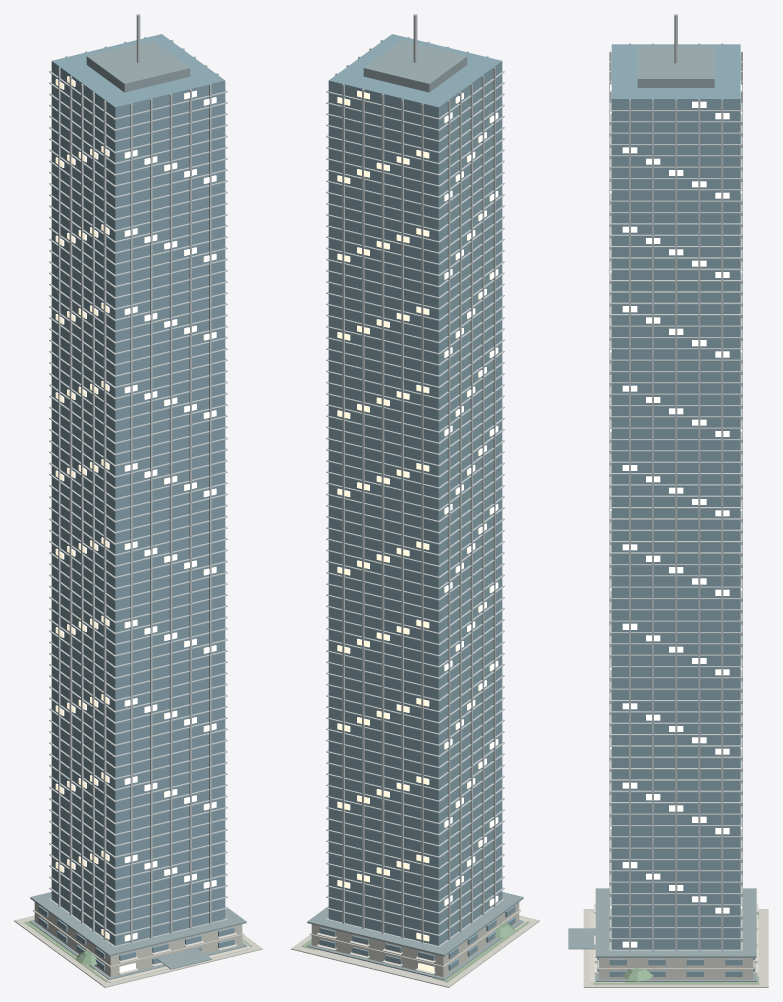
File: remaster_skyscraper_9.glb
The picture shows the model from 3 angles, left to right: view 1: azimuth 30°, elevation 25°; view 2: azimuth 150°, elevation 25°; view 3: azimuth 270°, elevation 25°; orthographic projection.
Parts seen in each view (by area): view 1: remaster_skyscraper_9 glass, remaster_skyscraper_9 metal, remaster_skyscraper_9 warm, remaster_skyscraper_9 roof, remaster_skyscraper_9 stone; view 2: remaster_skyscraper_9 glass, remaster_skyscraper_9 metal, remaster_skyscraper_9 warm, remaster_skyscraper_9 roof, remaster_skyscraper_9 stone; view 3: remaster_skyscraper_9 glass, remaster_skyscraper_9 metal, remaster_skyscraper_9 roof, remaster_skyscraper_9 warm, remaster_skyscraper_9 stone, remaster_skyscraper_9 green.
Boxes of the visible parts, x1,y1,x2,y2 form: remaster_skyscraper_9 glass: (38,34,234,970); remaster_skyscraper_9 metal: (49,14,227,946); remaster_skyscraper_9 warm: (55,76,216,972); remaster_skyscraper_9 roof: (29,40,247,979); remaster_skyscraper_9 stone: (14,902,262,987); remaster_skyscraper_9 glass: (319,34,515,970); remaster_skyscraper_9 metal: (326,14,504,946); remaster_skyscraper_9 warm: (337,90,498,972); remaster_skyscraper_9 roof: (306,40,524,979); remaster_skyscraper_9 stone: (291,902,539,987); remaster_skyscraper_9 glass: (597,44,755,976); remaster_skyscraper_9 metal: (609,14,742,950); remaster_skyscraper_9 roof: (568,46,756,981); remaster_skyscraper_9 warm: (610,81,742,947); remaster_skyscraper_9 stone: (583,909,768,987); remaster_skyscraper_9 green: (593,911,758,984).
Size of the model in its own units: 38.58 by 214 by 41.6.
